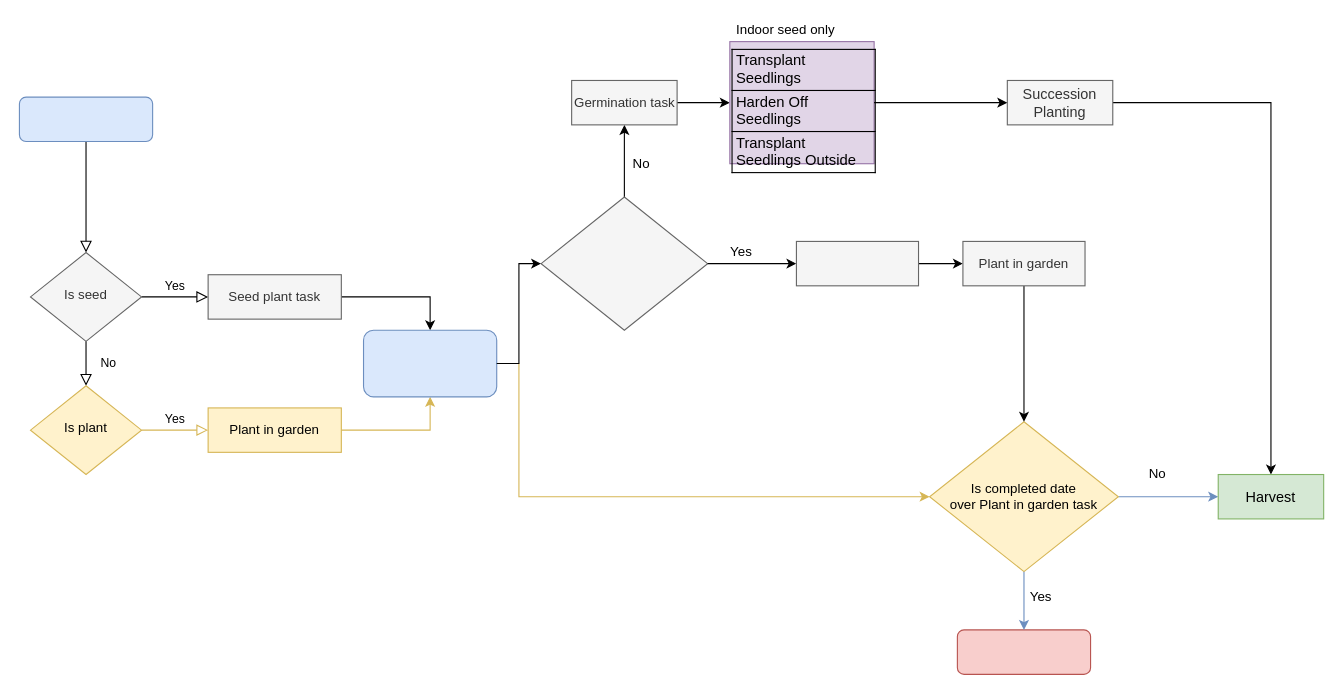
The diagram is 1343 pixels wide and 694 high, and some of its shapes have lost their labels. Here are the shapes that lost their labels. From the top down, the box of each, then its label:
(18, 96, 153, 142): App submit to create garden
(540, 196, 708, 330): Is date complete over due date of seed task?
(795, 240, 919, 286): Buy Plant
(362, 329, 497, 397): User done task/ Check current date
(956, 629, 1091, 674): Plant Task Failed
